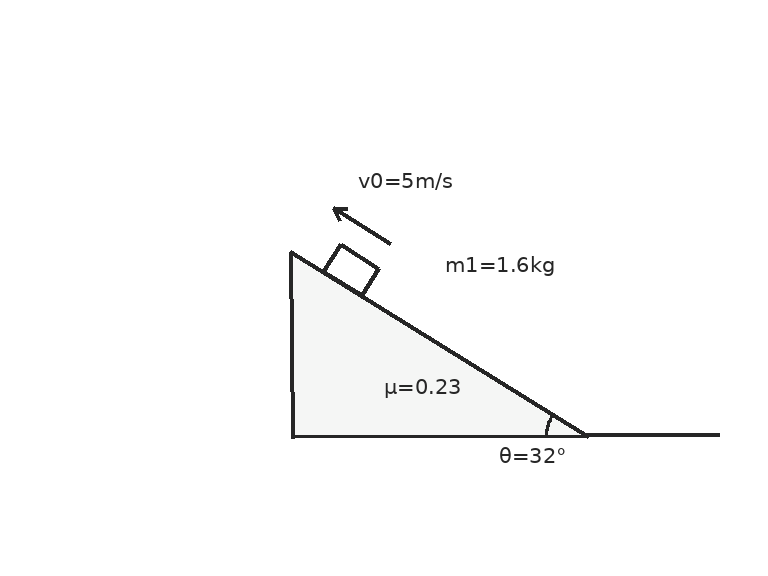block: (321, 243, 380, 297)
ramp: (290, 250, 588, 438)
